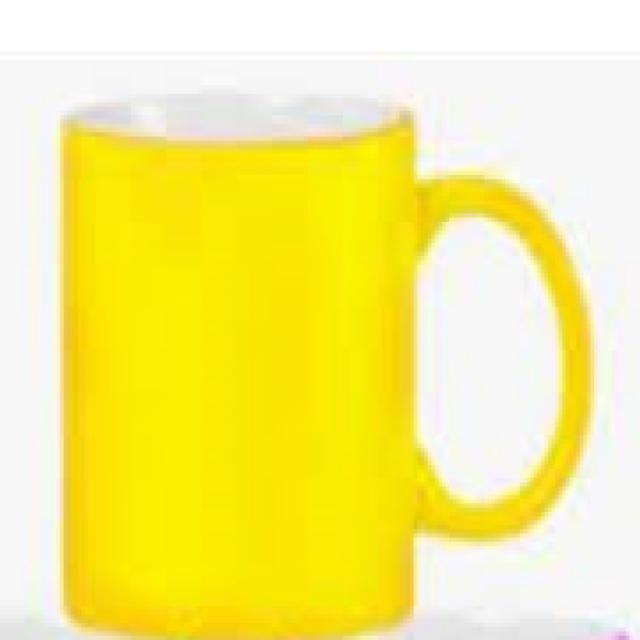taza: (60, 88, 594, 638)
